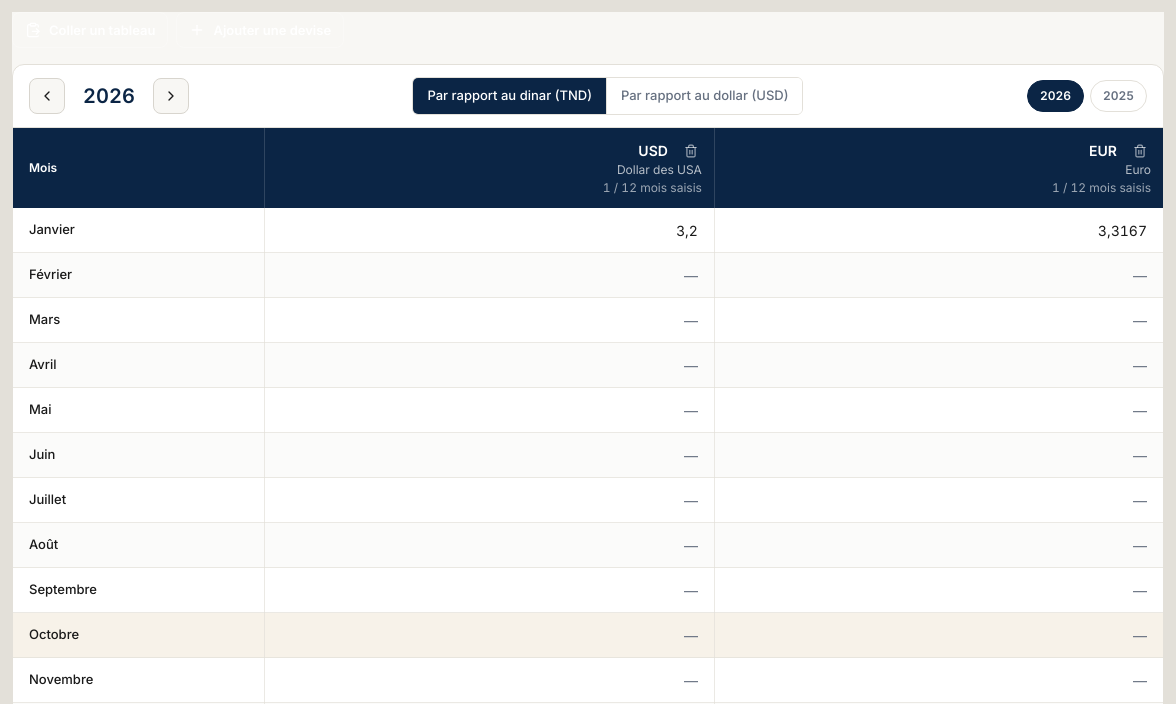
Test: page Cours de change › change d'année et en liste les années déjà renseignées
Click the button "2025". click: (1118, 96)
box: [1090,80,1147,112]
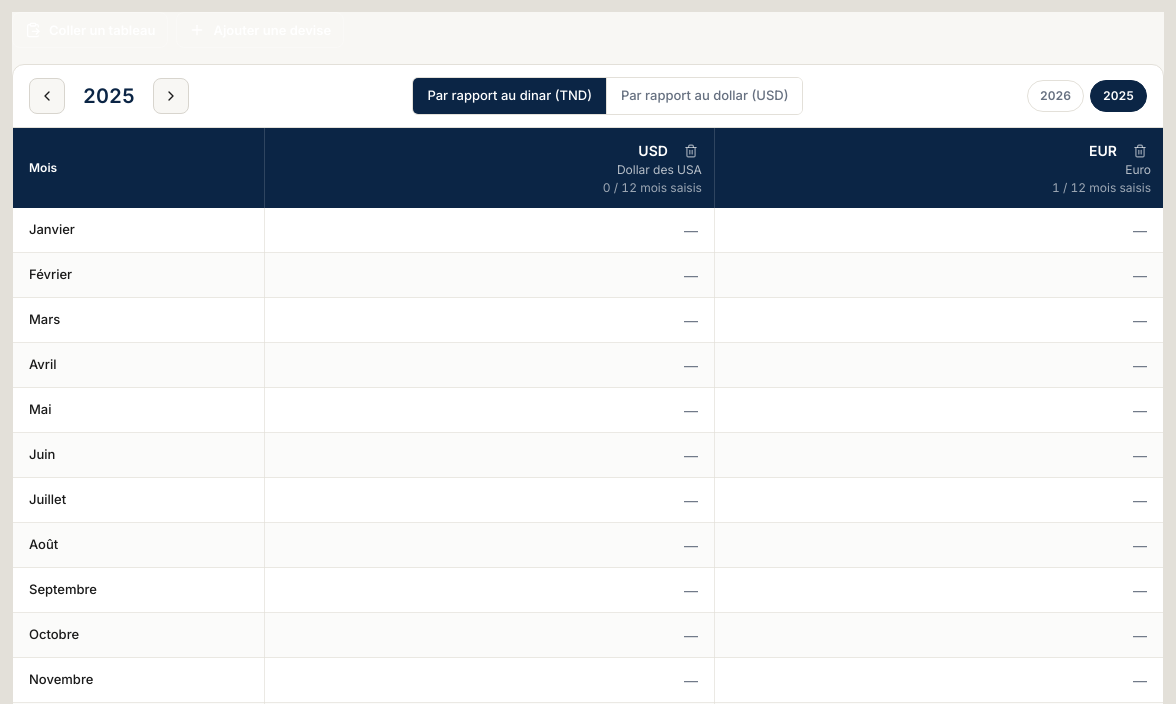
Click the button named "Année précédente". click: (47, 96)
box: [29,78,65,114]
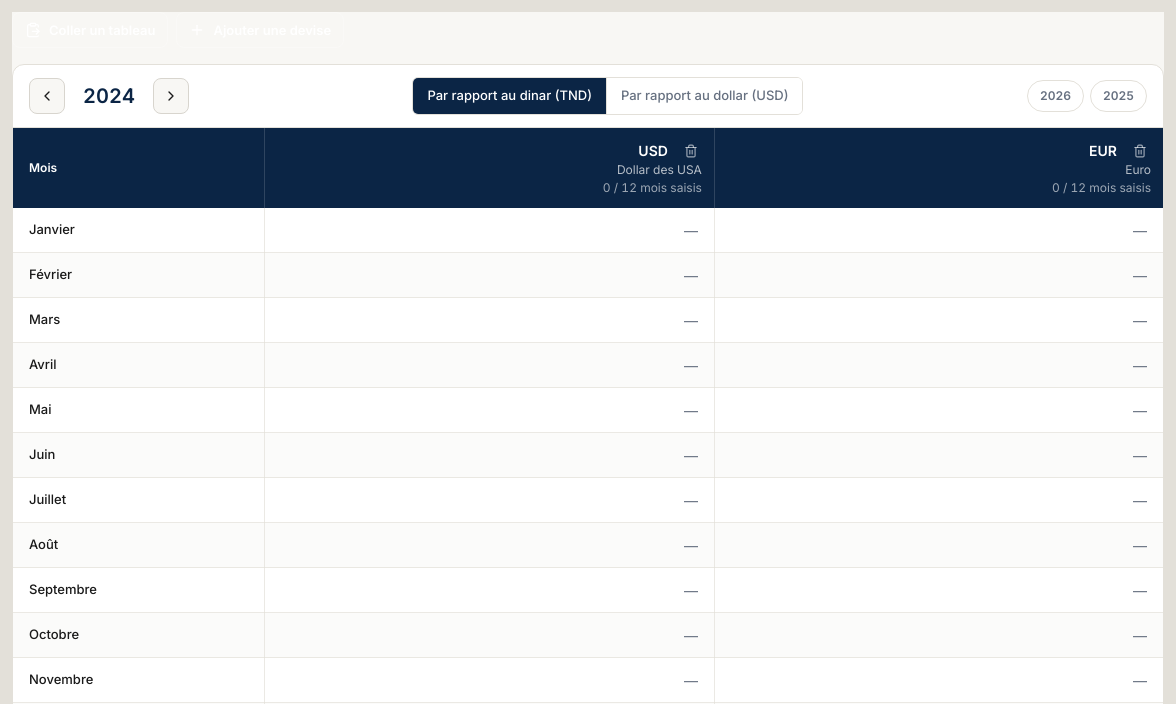
expect the text "2024" is shown: met, box [83,84,135,108]
